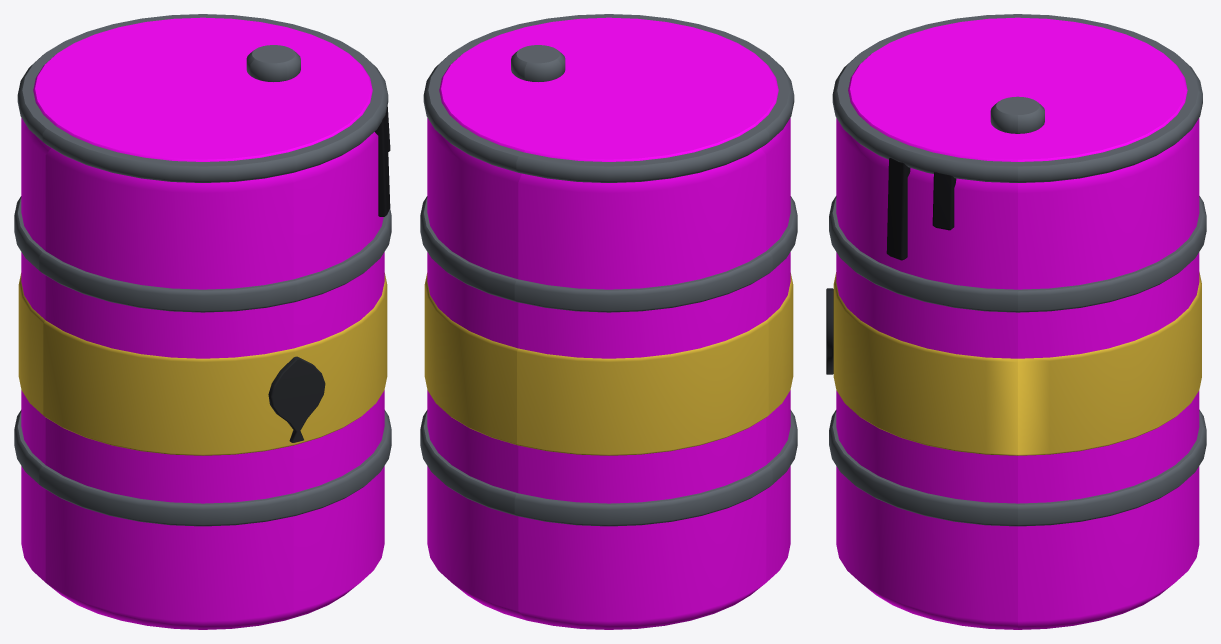
The model's file is objet_baril_petrole.glb.
3 views of the same model, side by side, from view 1: azimuth 30°, elevation 25°; view 2: azimuth 150°, elevation 25°; view 3: azimuth 270°, elevation 25° (orthographic).
Visible parts, largest first — view 1: baril_teinte.008, baril_nucleaire_jaune.002, baril_acier_doux_sombre.008, baril_symbole_noir.006, baril_petrole.002; view 2: baril_teinte.008, baril_nucleaire_jaune.002, baril_acier_doux_sombre.008; view 3: baril_teinte.008, baril_nucleaire_jaune.002, baril_acier_doux_sombre.008, baril_petrole.002, baril_symbole_noir.006.
Boxes of the visible parts, box(x1,y1,x2,y2) form: baril_teinte.008: box(21, 17, 384, 629); baril_nucleaire_jaune.002: box(18, 273, 387, 455); baril_acier_doux_sombre.008: box(14, 14, 391, 526); baril_symbole_noir.006: box(268, 356, 325, 442); baril_petrole.002: box(374, 106, 390, 216); baril_teinte.008: box(427, 17, 790, 629); baril_nucleaire_jaune.002: box(424, 273, 793, 455); baril_acier_doux_sombre.008: box(420, 14, 797, 526); baril_teinte.008: box(836, 17, 1199, 629); baril_nucleaire_jaune.002: box(833, 272, 1201, 455); baril_acier_doux_sombre.008: box(829, 14, 1206, 526); baril_petrole.002: box(886, 158, 956, 260); baril_symbole_noir.006: box(826, 288, 833, 374).
Size of the model in its own units: 0.208 by 0.2975 by 0.2095.
